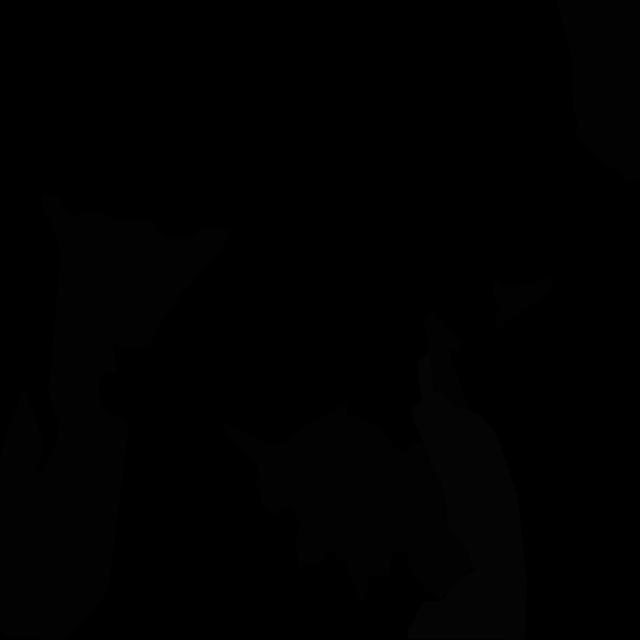cardboard: (0, 194, 230, 640), (223, 403, 401, 601), (556, 0, 640, 182), (391, 441, 474, 600), (424, 310, 470, 410), (492, 277, 554, 329)
soft_plastic: (408, 391, 526, 640), (417, 353, 434, 399)
